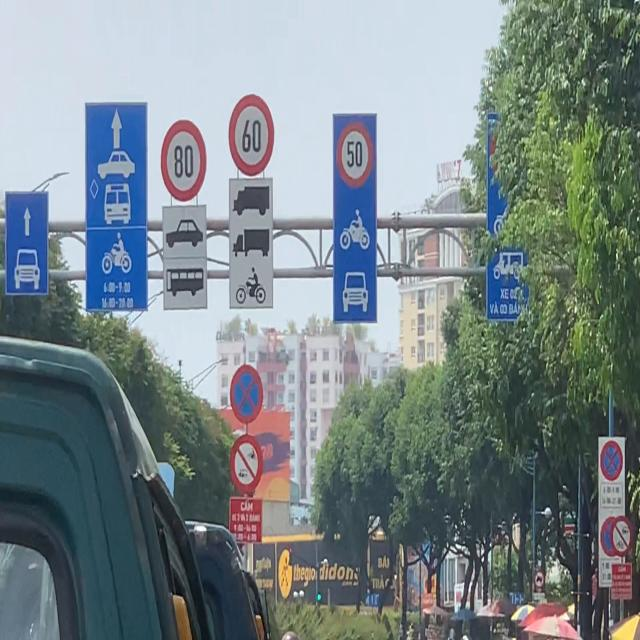Cam con lai: (230, 434, 264, 496), (610, 514, 631, 560)
Cam dung va do: (230, 364, 263, 424), (600, 441, 624, 482)
Toc do toi da: (160, 119, 207, 202), (228, 94, 275, 177), (336, 121, 374, 187)
